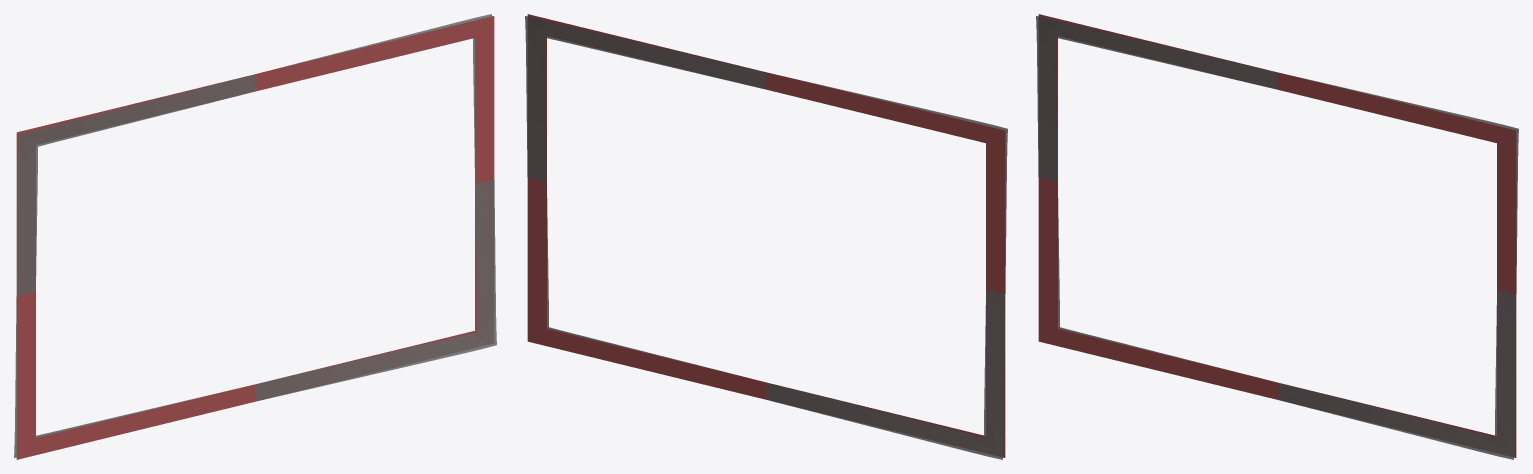
File: warping-box-129-197-7-8-318.glb
The picture shows the model from 3 angles, left to right: view 1: azimuth 30°, elevation 25°; view 2: azimuth 150°, elevation 25°; view 3: azimuth 330°, elevation 25°; orthographic projection.
Visible parts, largest first — view 1: undeformed cross-section, cross-section with warping; view 2: undeformed cross-section, cross-section with warping; view 3: undeformed cross-section, cross-section with warping.
Part boxes in pixels (x1,y1,x2,y2): undeformed cross-section: (16,16,494,459); cross-section with warping: (14,14,496,457); undeformed cross-section: (527,14,1005,457); cross-section with warping: (525,16,1007,459); undeformed cross-section: (1038,14,1516,457); cross-section with warping: (1036,16,1518,459).
Size of the model in its own units: 0.197 by 0.129 by 0.004.
